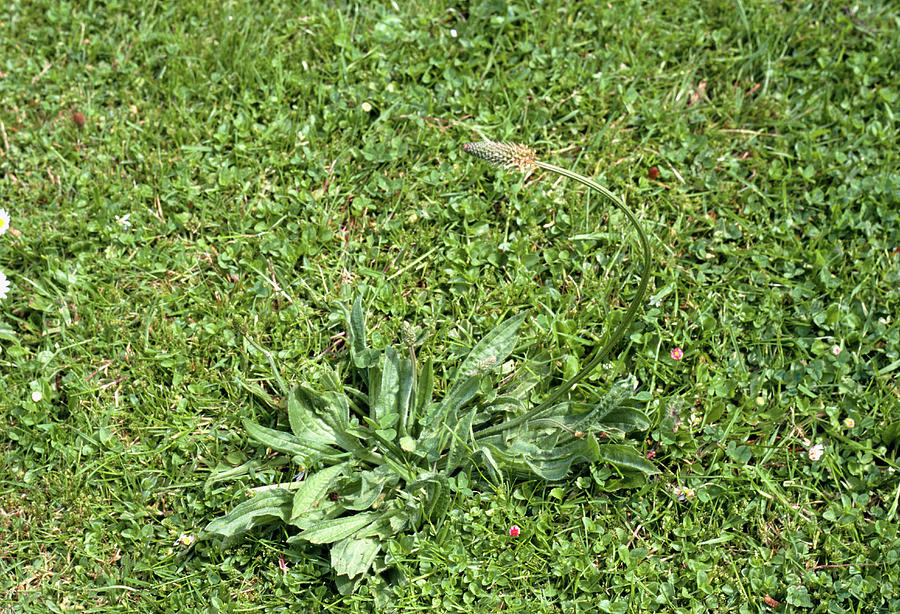buckhorn plantain: (223, 132, 657, 519)
